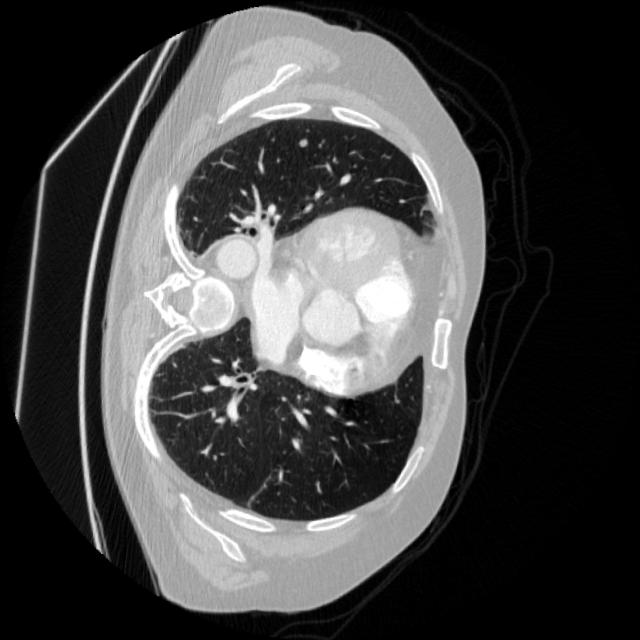nodule: (291, 133, 315, 157)
